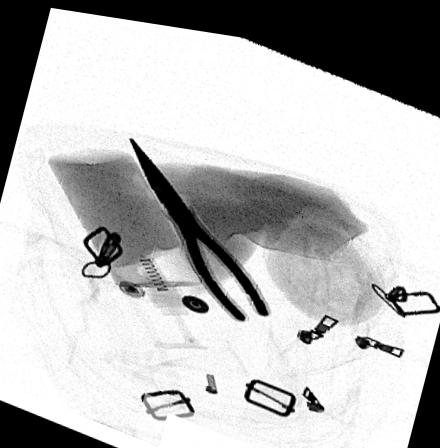Pliers: (125, 130, 270, 313)
